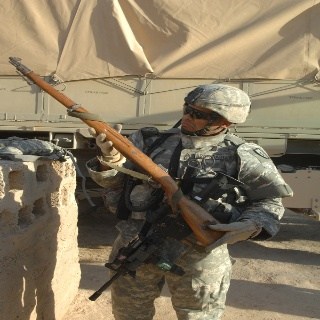rifle: (8, 54, 227, 247)
